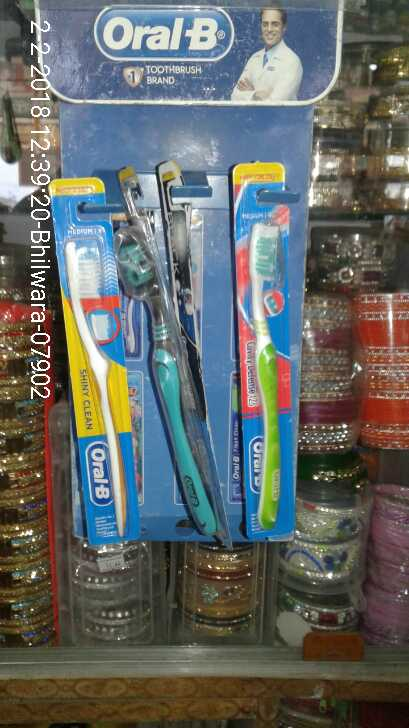oralb: (239, 167, 304, 536), (62, 223, 139, 528)
